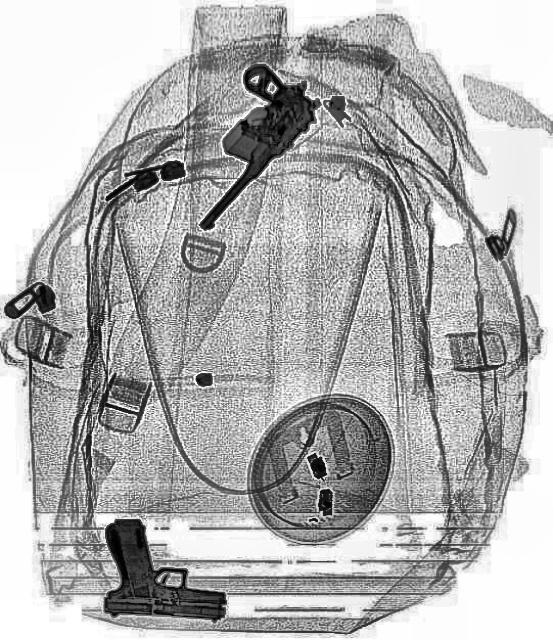Gun: (150, 46, 328, 242), (98, 518, 228, 620)
